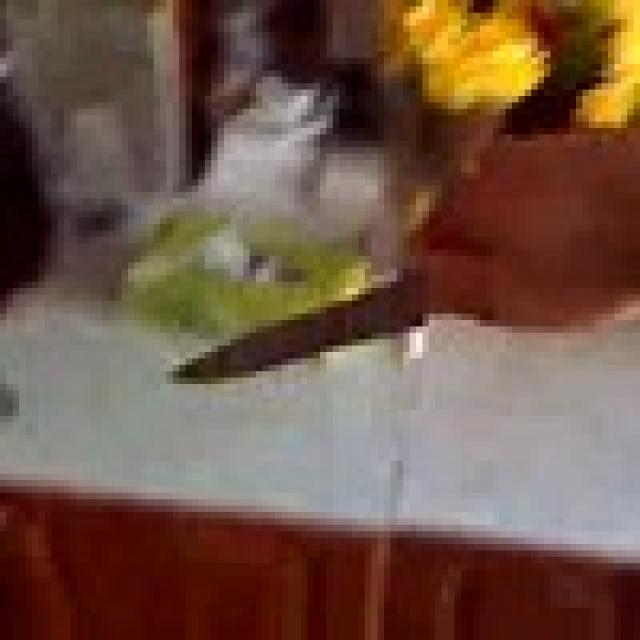Knife: (166, 262, 442, 410)
